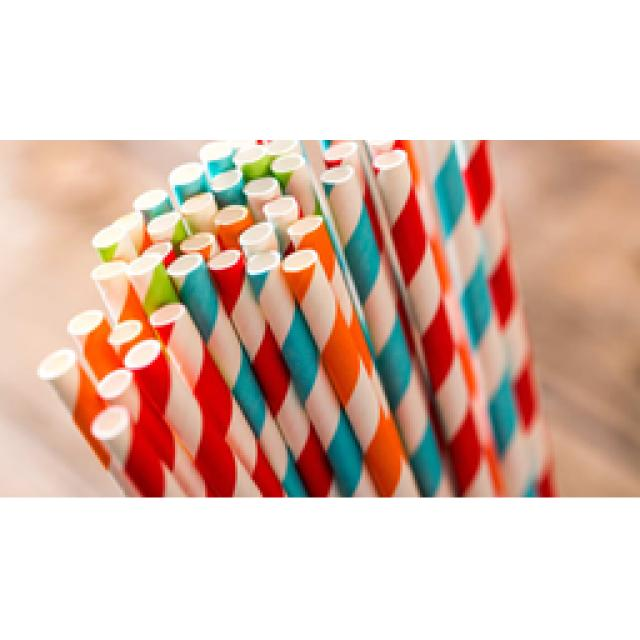plastic: (38, 140, 552, 495)
